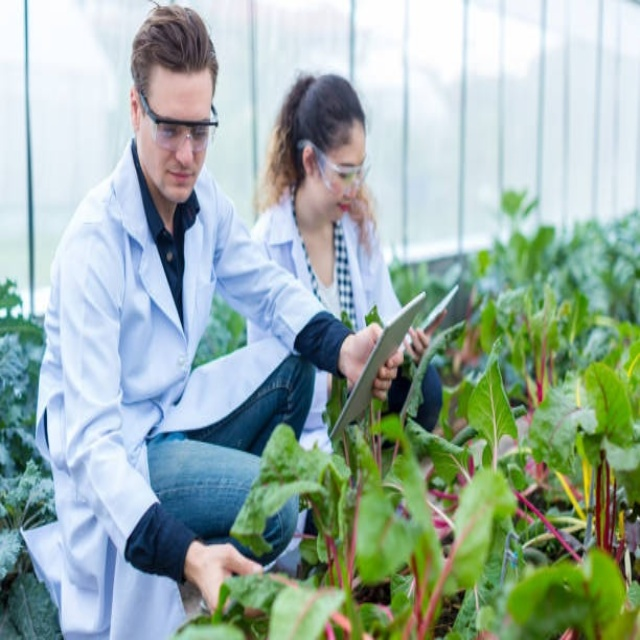Gafas: (138, 89, 219, 150), (302, 142, 368, 197)
Sin_guantes: (185, 536, 267, 615), (370, 344, 407, 403)
Sin_mascara: (161, 168, 197, 196), (325, 198, 351, 221)
